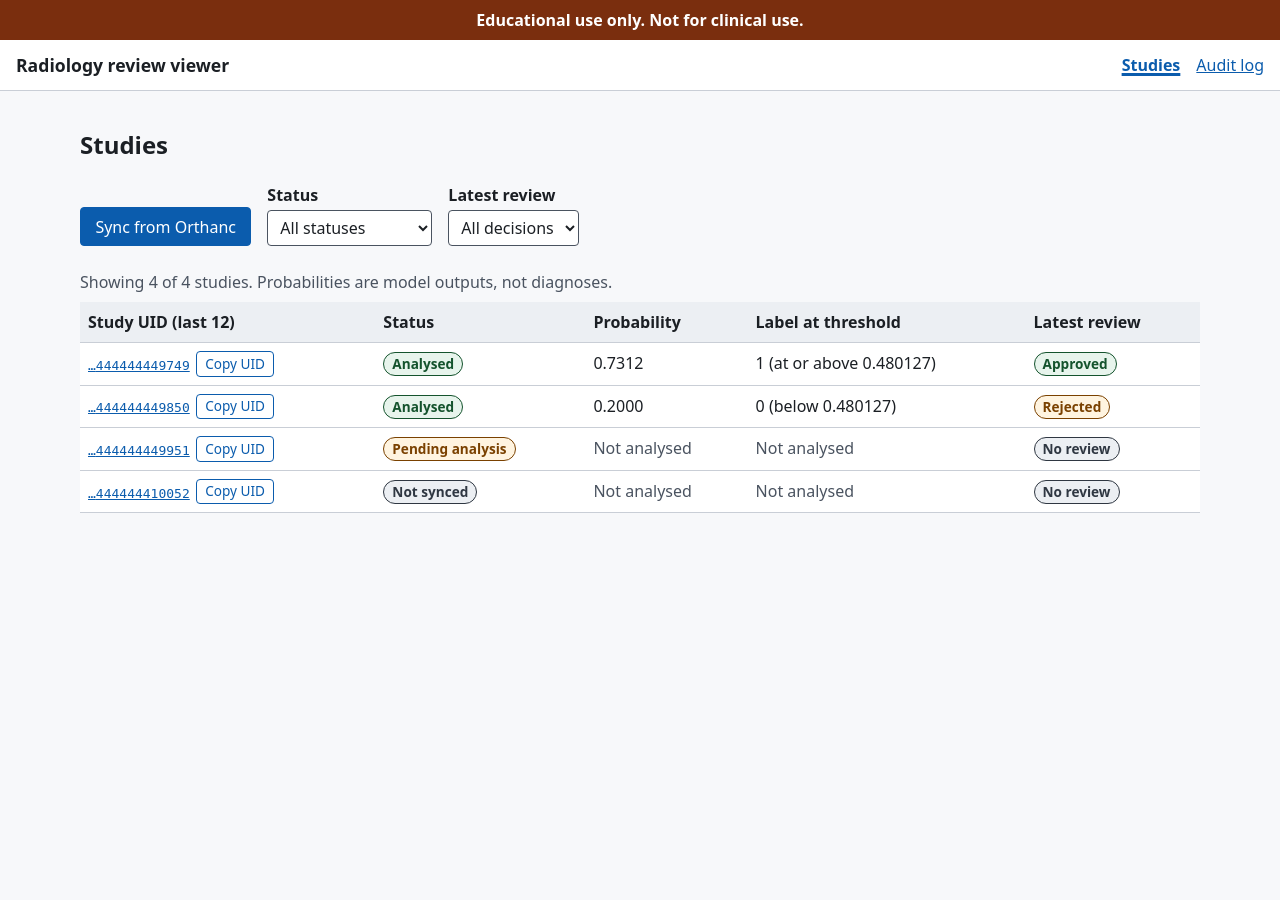
study list errors › shows a 502 from sync inline without losing the list
Click the button "Sync from Orthanc". click: click(166, 227)
box: [80, 207, 251, 246]
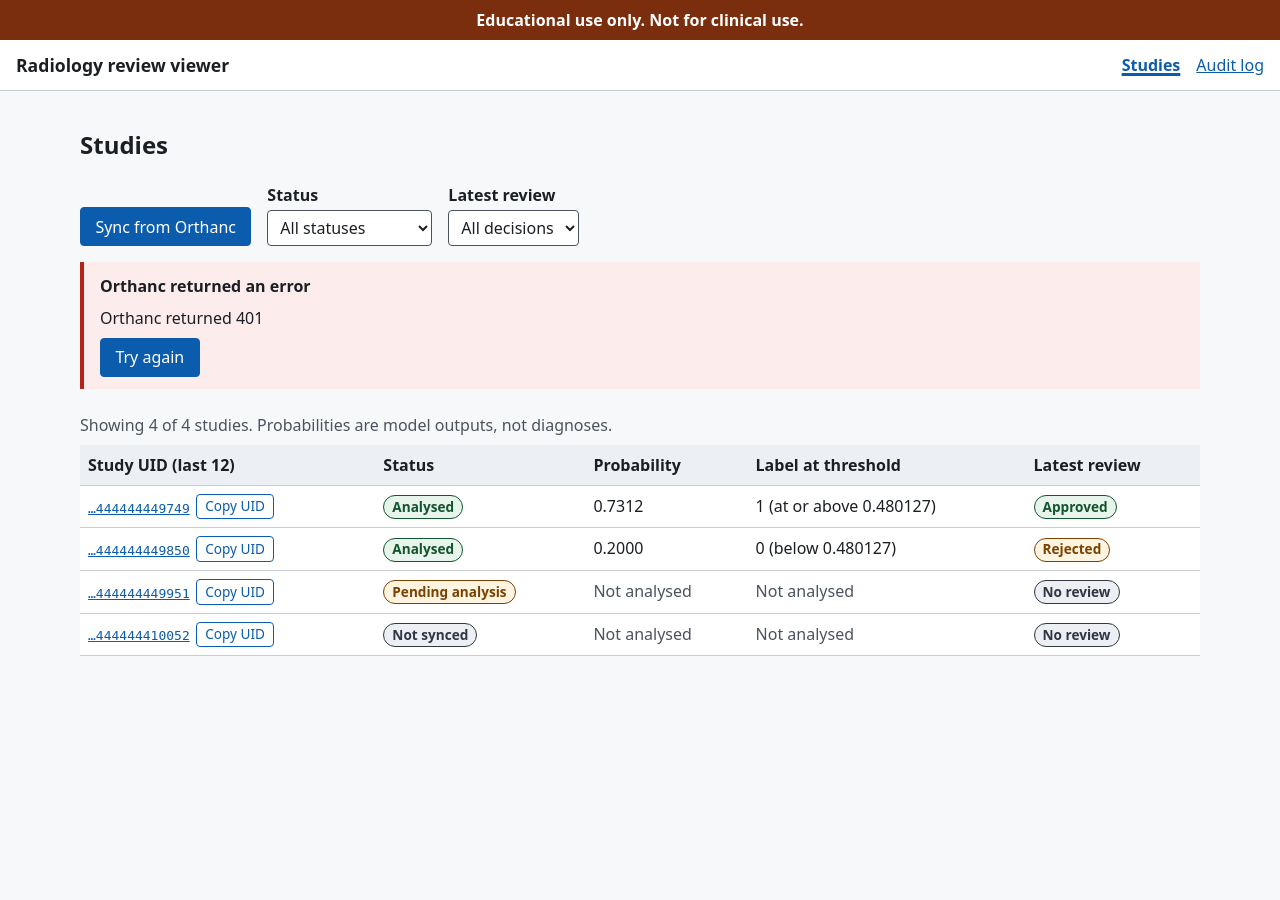
Expected: the message shows "Orthanc returned an error", [100, 275, 311, 297]
Expected: the message shows "Orthanc returned 401", [100, 307, 263, 329]
